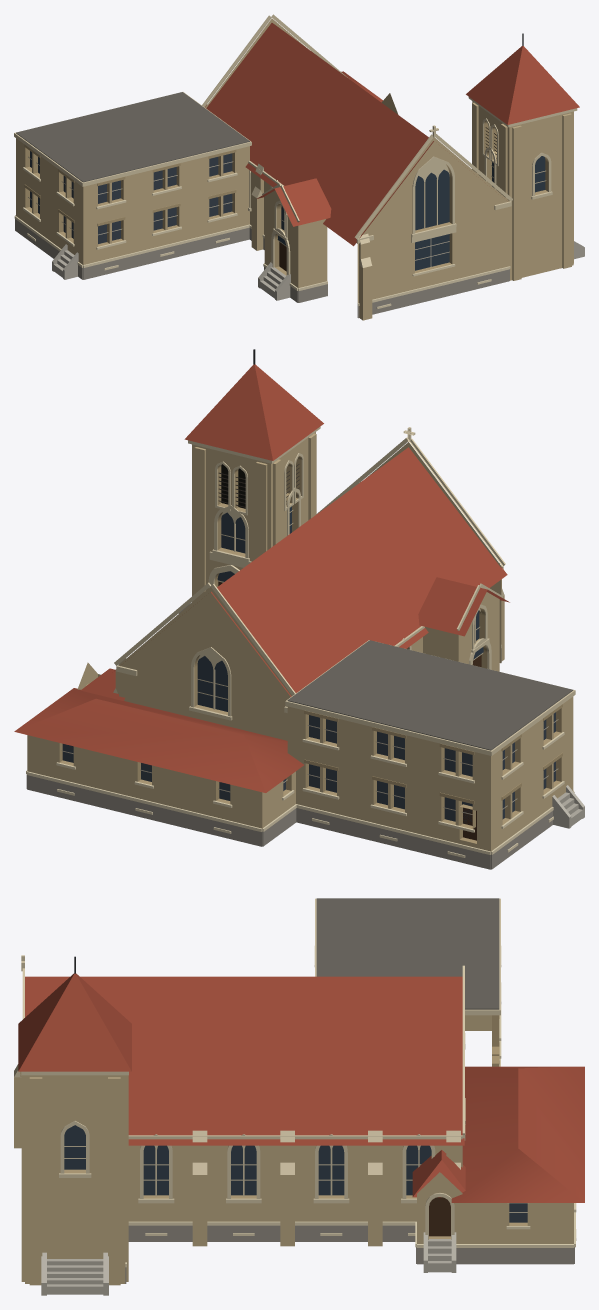
File: ch-wesley-chapel-1961.glb
3 renders of one model, top to bottom at view 1: azimuth 30°, elevation 25°; view 2: azimuth 150°, elevation 25°; view 3: azimuth 270°, elevation 25°, orthographic. The views are drawn at different scales.
Parts seen in each view (by area): view 1: ch_brick, ch_roof, ch_flat, ch_trc, ch_base, ch_brick2, ch_stain, ch_trim, ch_glass, ch_conc; view 2: ch_roof, ch_brick, ch_flat, ch_trc, ch_base, ch_brick2, ch_trim, ch_glass, ch_stain, ch_conc; view 3: ch_roof, ch_brick, ch_flat, ch_trc, ch_base, ch_stain, ch_conc, ch_trim, ch_brick2, ch_door.
Boxes of the visible parts, bbox=[...] form: ch_brick: bbox=[16, 18, 573, 320]; ch_roof: bbox=[205, 23, 579, 246]; ch_flat: bbox=[16, 92, 249, 182]; ch_trc: bbox=[14, 14, 577, 276]; ch_base: bbox=[15, 219, 509, 318]; ch_brick2: bbox=[24, 121, 548, 275]; ch_stain: bbox=[277, 156, 545, 270]; ch_trim: bbox=[14, 167, 510, 309]; ch_glass: bbox=[30, 151, 232, 243]; ch_conc: bbox=[52, 241, 584, 300]; ch_roof: bbox=[14, 364, 509, 792]; ch_brick: bbox=[27, 432, 573, 851]; ch_flat: bbox=[287, 640, 573, 750]; ch_trc: bbox=[113, 426, 575, 755]; ch_base: bbox=[26, 648, 552, 869]; ch_brick2: bbox=[59, 455, 562, 843]; ch_trim: bbox=[26, 645, 574, 857]; ch_glass: bbox=[62, 712, 555, 825]; ch_stain: bbox=[197, 506, 483, 711]; ch_conc: bbox=[178, 602, 584, 828]; ch_roof: bbox=[18, 973, 584, 1202]; ch_brick: bbox=[14, 1015, 573, 1285]; ch_flat: bbox=[316, 898, 499, 1009]; ch_trc: bbox=[14, 898, 500, 1239]; ch_base: bbox=[125, 1225, 574, 1283]; ch_stain: bbox=[64, 1125, 431, 1195]; ch_conc: bbox=[41, 1232, 456, 1295]; ch_trim: bbox=[125, 946, 576, 1267]; ch_brick2: bbox=[64, 1015, 527, 1238]; ch_door: bbox=[429, 1197, 450, 1236].
Bounding box in the file's own units: 35.5 × 18.5 × 31.3.
